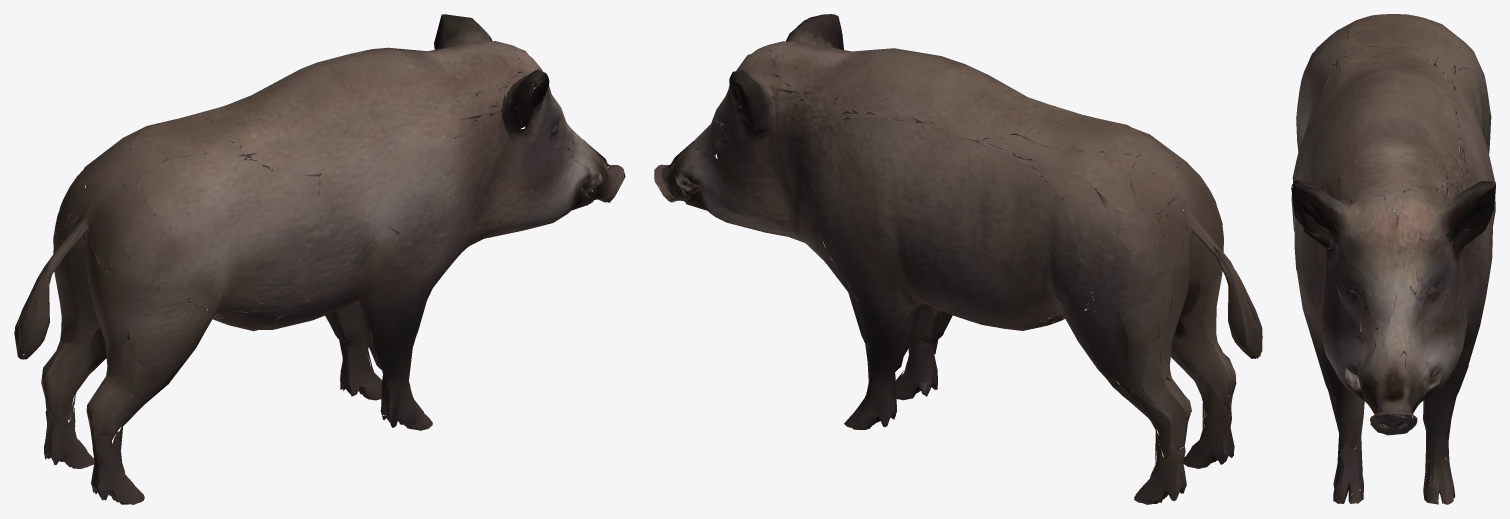
File: obs_boar.glb
3 views of the same model, side by side, from view 1: azimuth 30°, elevation 25°; view 2: azimuth 150°, elevation 25°; view 3: azimuth 270°, elevation 25° (orthographic). The views are drawn at different scales.
Visible parts, largest first — view 1: material; view 2: material; view 3: material.
Part boxes in pixels (box(x1,y1,x2,y2)): material: box(14, 14, 625, 504); material: box(654, 14, 1262, 504); material: box(1291, 14, 1495, 504).
Size of the model in its own units: 1.2 by 0.6803 by 0.3253.
1 material, 1 textured.
